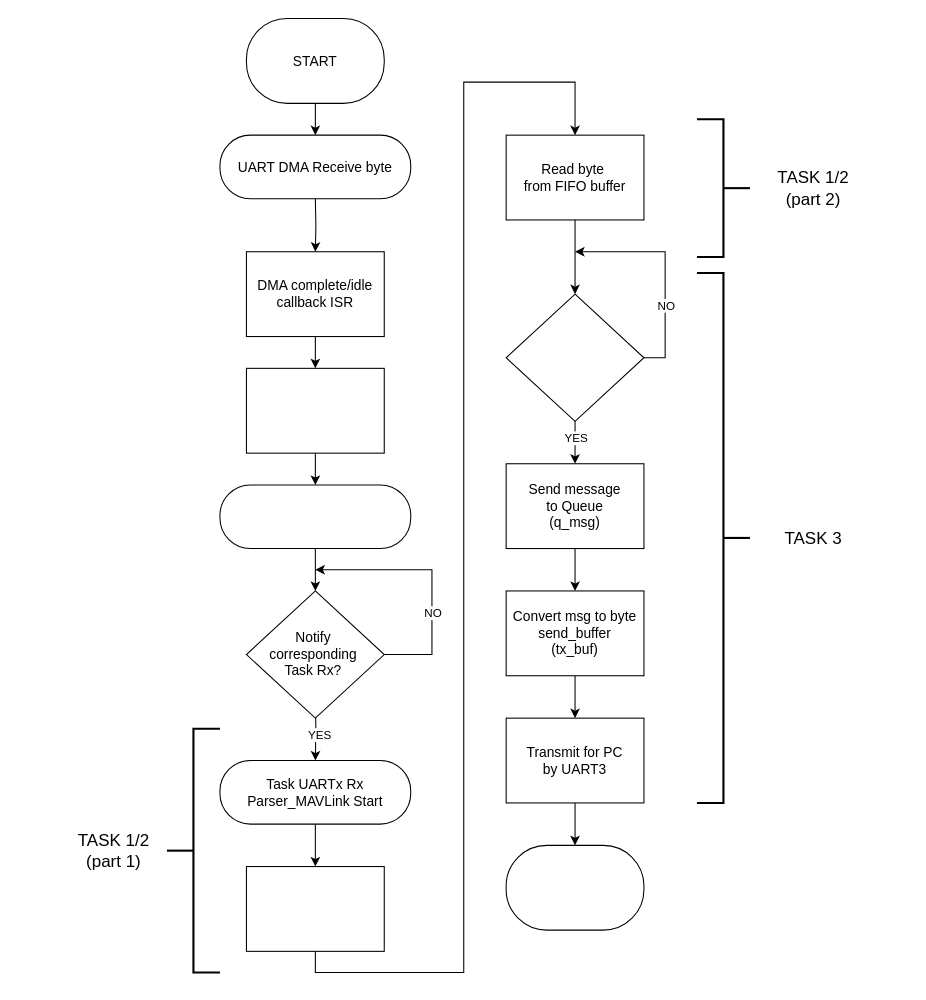
The diagram is 926 pixels wide and 1000 high, and some of its shapes have lost their labels. The centre of each missing label's shape, as x and y in pixels:
"END" goes at (x=574, y=887).
"Notify corresponding Task Rx with vTaskNotifyGiveFromISR" goes at (x=315, y=516).
"Valid MAVLink message completed?" goes at (x=574, y=357).
"Wait for vTaskNotifyTake" goes at (x=314, y=908).
"Write data from DMA to FIFO_uartx buffer" goes at (x=314, y=410).
